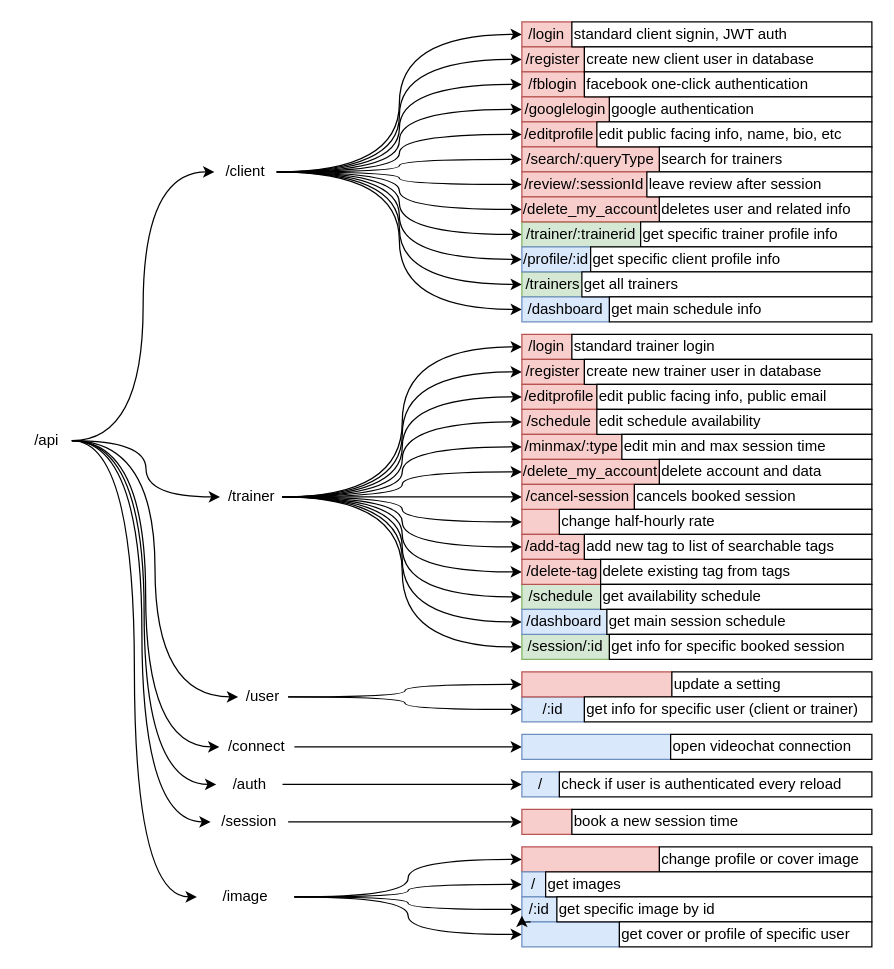
Some shapes in this 894 by 969 pixel diagram are drawn without their labels. Here are the shapes that lost their labels. From the top down, the box of each, then its label:
(521, 508, 559, 534): /rate
(521, 671, 672, 697): /settings/:type/:setting
(521, 733, 671, 759): /client/:connectionId
(521, 808, 572, 834): /new
(521, 846, 659, 872): /upload/:type/:kind
(521, 921, 619, 947): /user/:kind/:id
